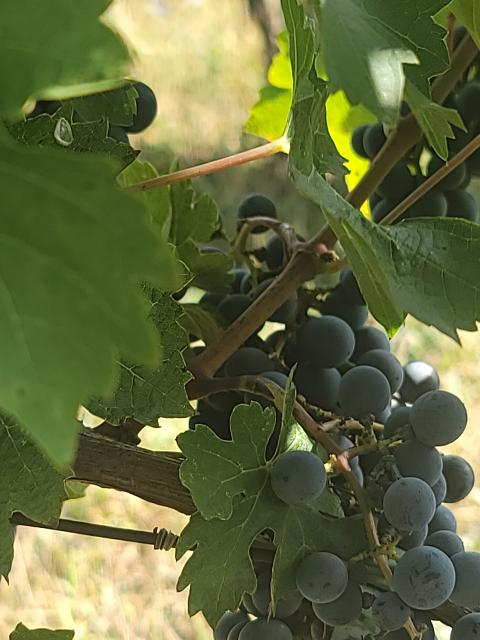grapes: (221, 306, 476, 571), (369, 390, 480, 640)
